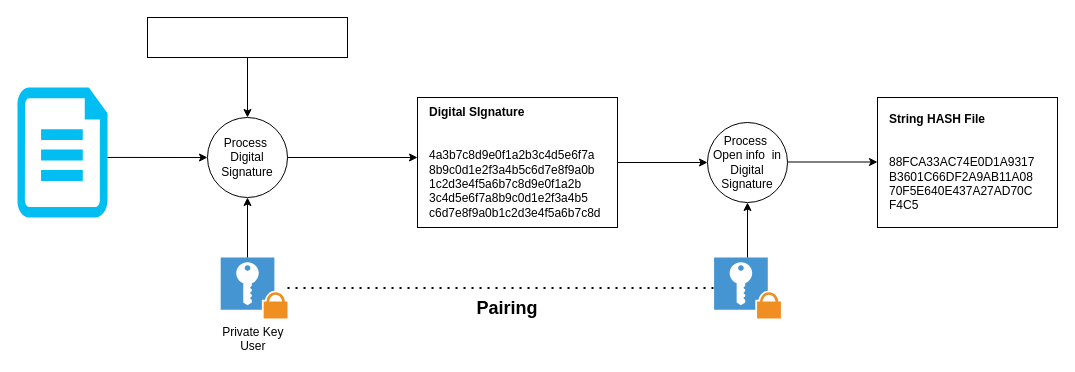
This 1075x372 diagram has some shape labels left out. Here are the shapes that lost their labels. From the top down, the centre of each, then its label:
the point at 247,37: Convert byte hash (SHA256 / SHA512)
the point at 62,152: File
the point at 747,287: Public Key user
